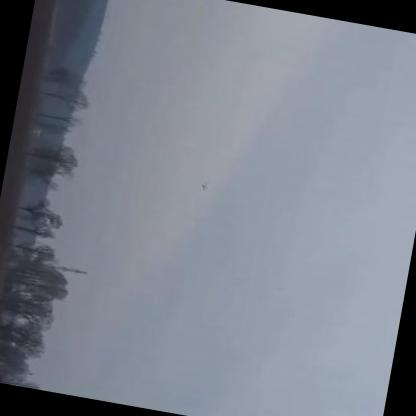plane: (198, 179, 212, 193)
